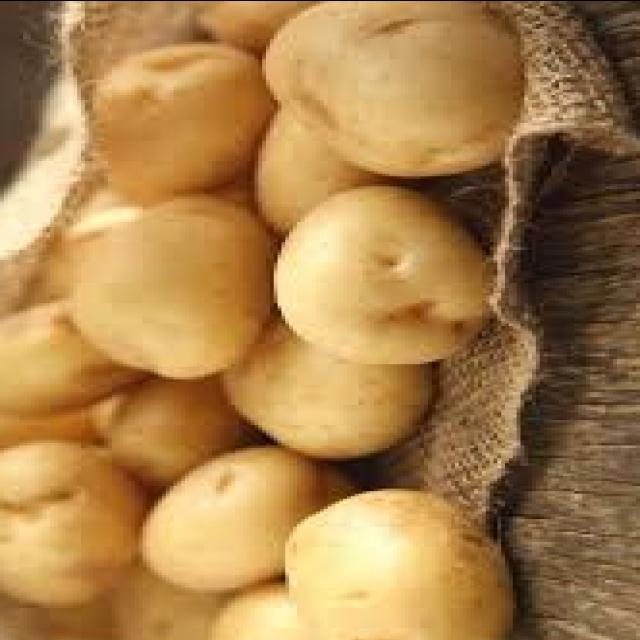Potato: (254, 0, 543, 181), (263, 178, 503, 373), (70, 177, 268, 394), (289, 483, 532, 640), (118, 438, 342, 597), (208, 322, 416, 468), (90, 42, 260, 214), (0, 439, 162, 607)
